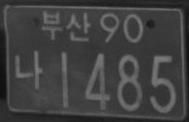0: (122, 13, 144, 43)
1: (51, 52, 80, 108)
4: (83, 52, 111, 110)
5: (149, 54, 176, 114)
8: (116, 53, 143, 113)
9: (99, 12, 120, 42)
나: (14, 50, 43, 91)
부산_O: (42, 10, 91, 42)
